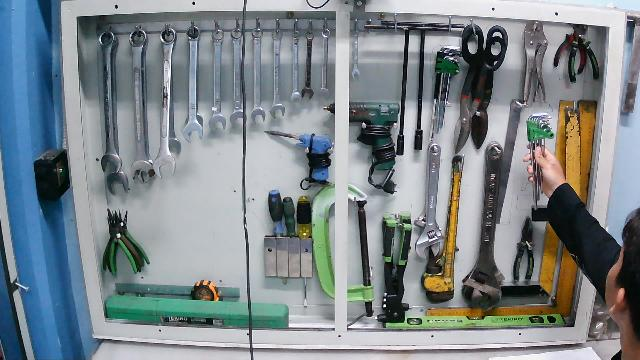kunci_l_bintang: (524, 109, 557, 212)
